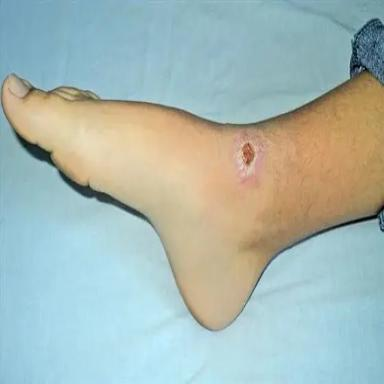Leishmanios: (234, 131, 264, 182)
